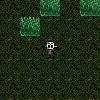Jason: (42, 38, 57, 59)
Slow: (20, 17, 40, 36), (40, 0, 60, 16), (80, 0, 100, 16)
